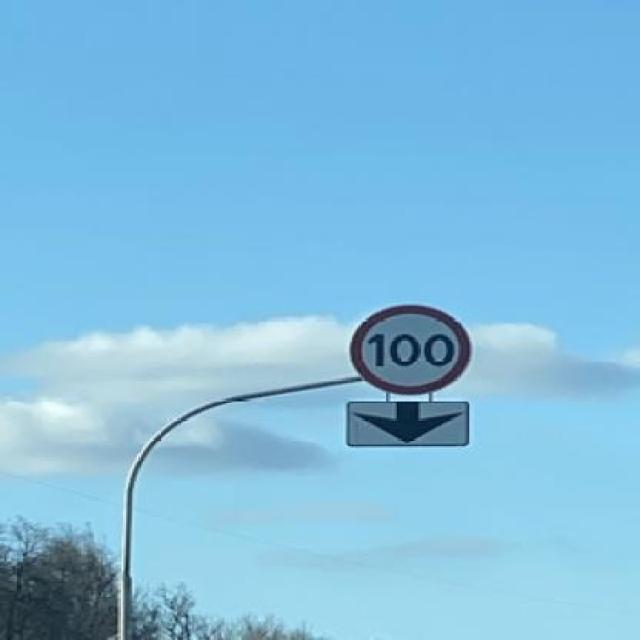forb_speed_over_100: (352, 302, 474, 393)
